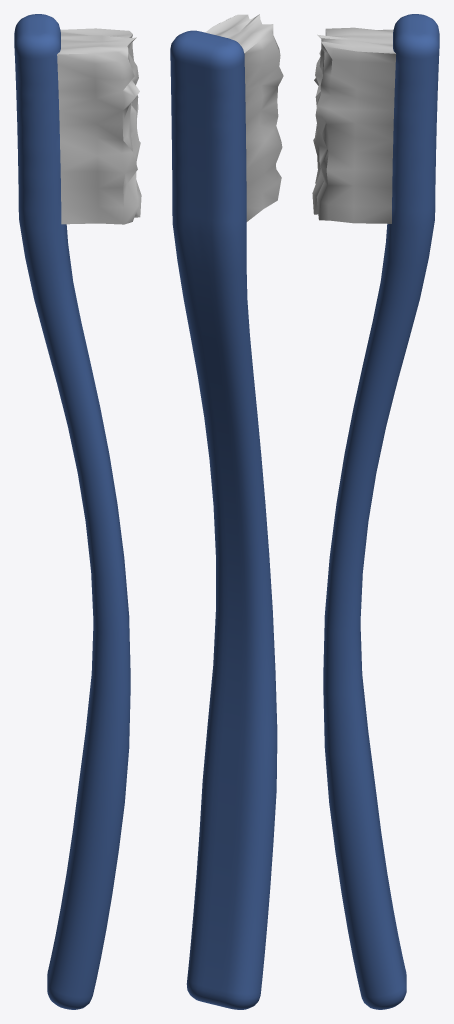
The model's file is zahnbuerste.fbx.
3 views of the same model, side by side, from view 1: azimuth 90°, elevation 25°; view 2: azimuth 150°, elevation 25°; view 3: azimuth 270°, elevation 25° (orthographic).
Parts seen in each view (by area): view 1: Sweep_1; view 2: Sweep_1; view 3: Sweep_1.
Boxes of the visible parts, <box> form: Sweep_1: <box>14,14,141,1009</box>; Sweep_1: <box>170,14,283,1009</box>; Sweep_1: <box>312,14,439,1009</box>.
Bounding box in the file's own units: 5 × 69.52 × 8.22.
